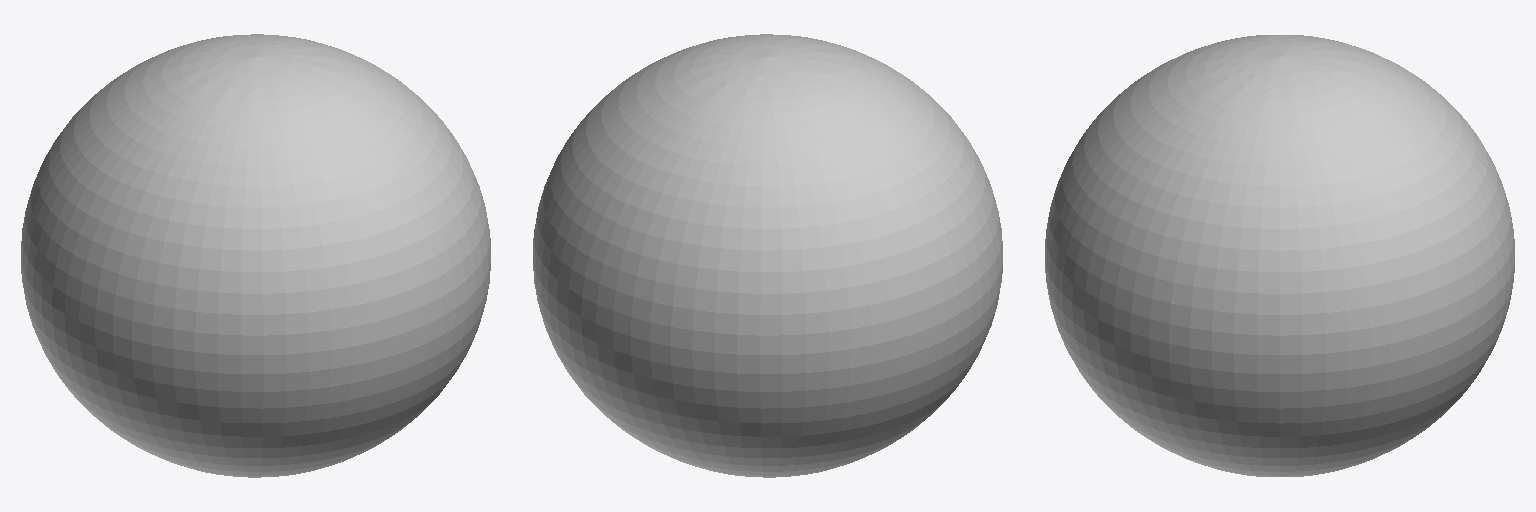
Rendered from saturn_planet.obj.
The picture shows the model from 3 angles: view 1: azimuth 30°, elevation 25°; view 2: azimuth 150°, elevation 25°; view 3: azimuth 270°, elevation 25°; orthographic projection.
Parts seen in each view (by area): view 1: Sphere; view 2: Sphere; view 3: Sphere.
Boxes of the visible parts, x1,y1,x2,y2 form: Sphere: [21, 34, 490, 477]; Sphere: [533, 34, 1002, 477]; Sphere: [1045, 35, 1514, 476].
Size of the model in its own units: 11450 by 10689 by 11450.